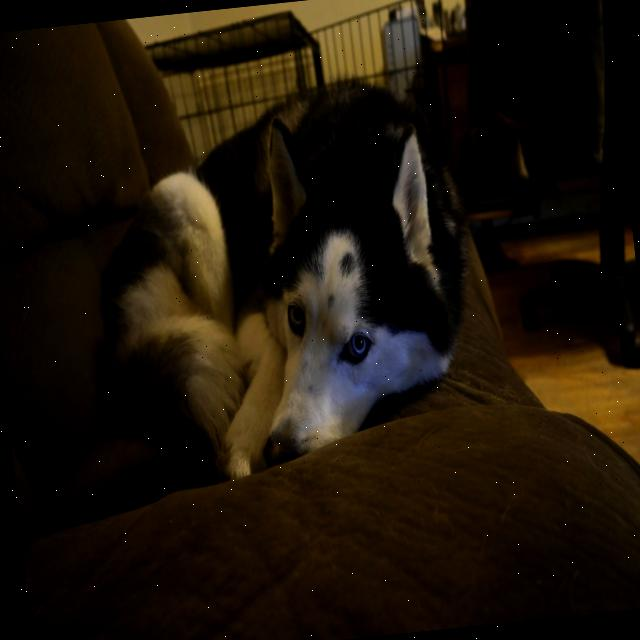siberian_husky_dog: (216, 92, 466, 476)
